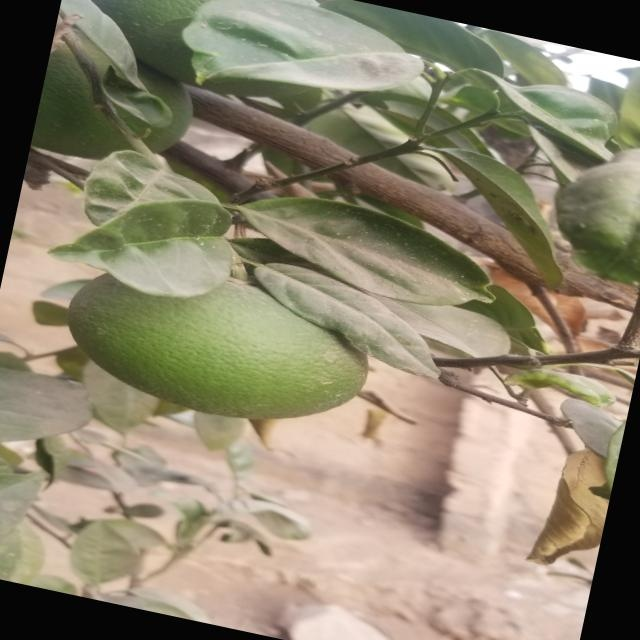agrume: (54, 236, 381, 440)
